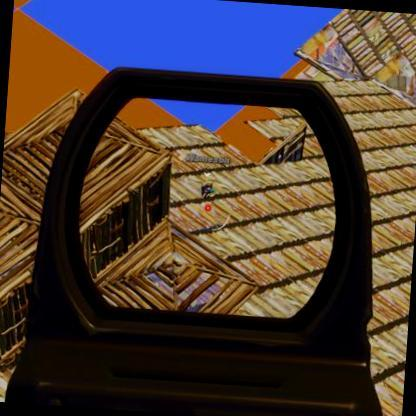person: (200, 177, 220, 199)
